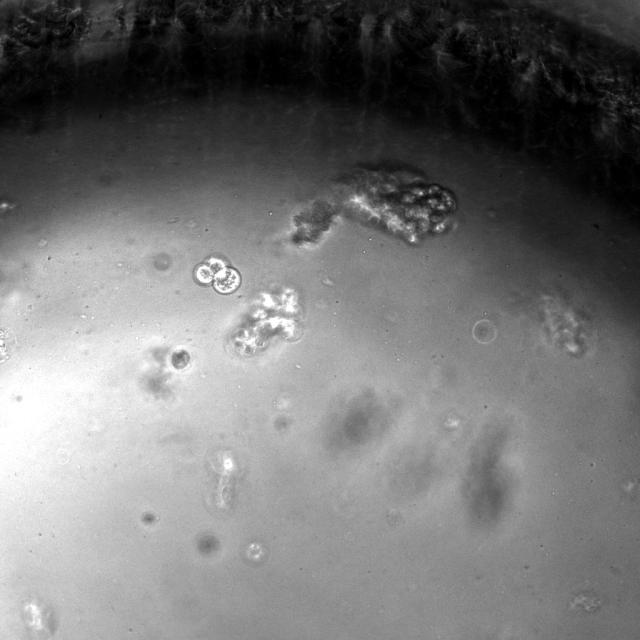organoid: (292, 165, 456, 244), (509, 284, 595, 358), (231, 287, 303, 356), (192, 254, 241, 294), (472, 320, 496, 343), (171, 349, 190, 369)
